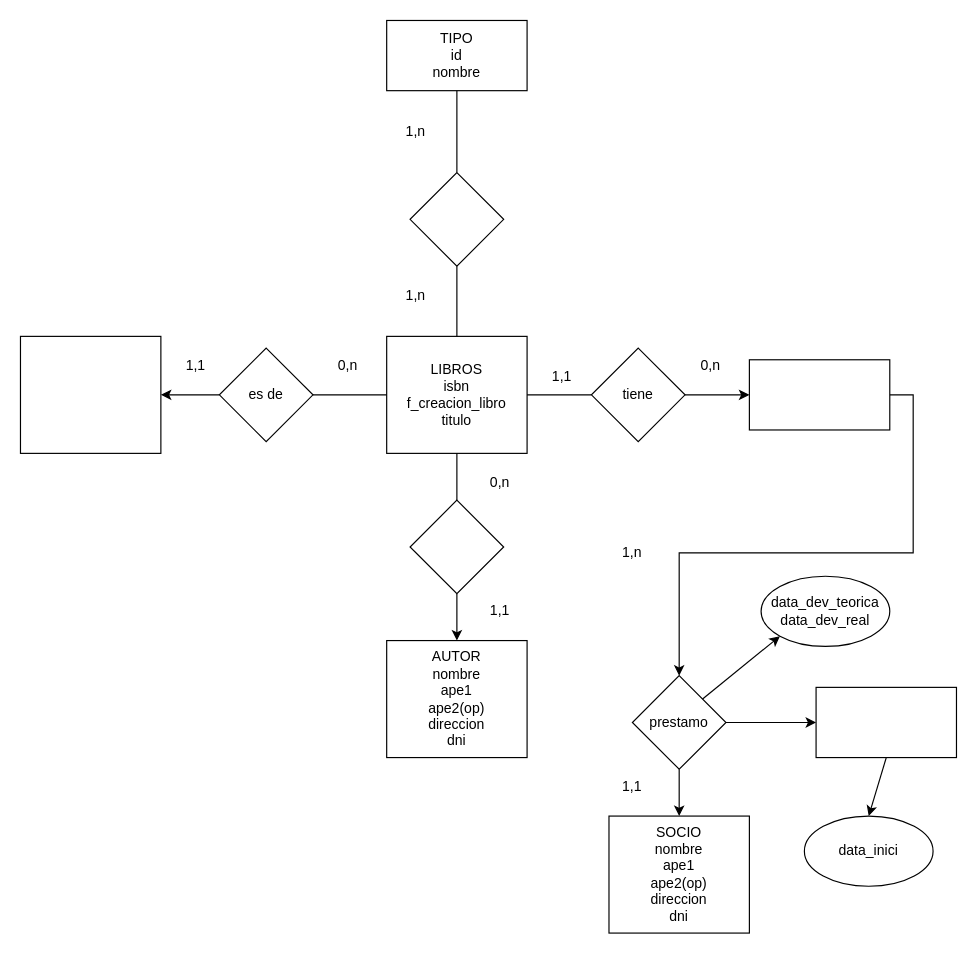
Some shapes in this 977 by 954 pixel diagram are drawn without their labels. The shapes that lost their labels are listed below. From the top down, each one's centre as x and y in pixels, then its label:
(456,218): pertenece
(90,394): EDITORIAL nombre
(819,394): EJEMPLARES isbn
(456,546): escrito
(885,722): DATA
